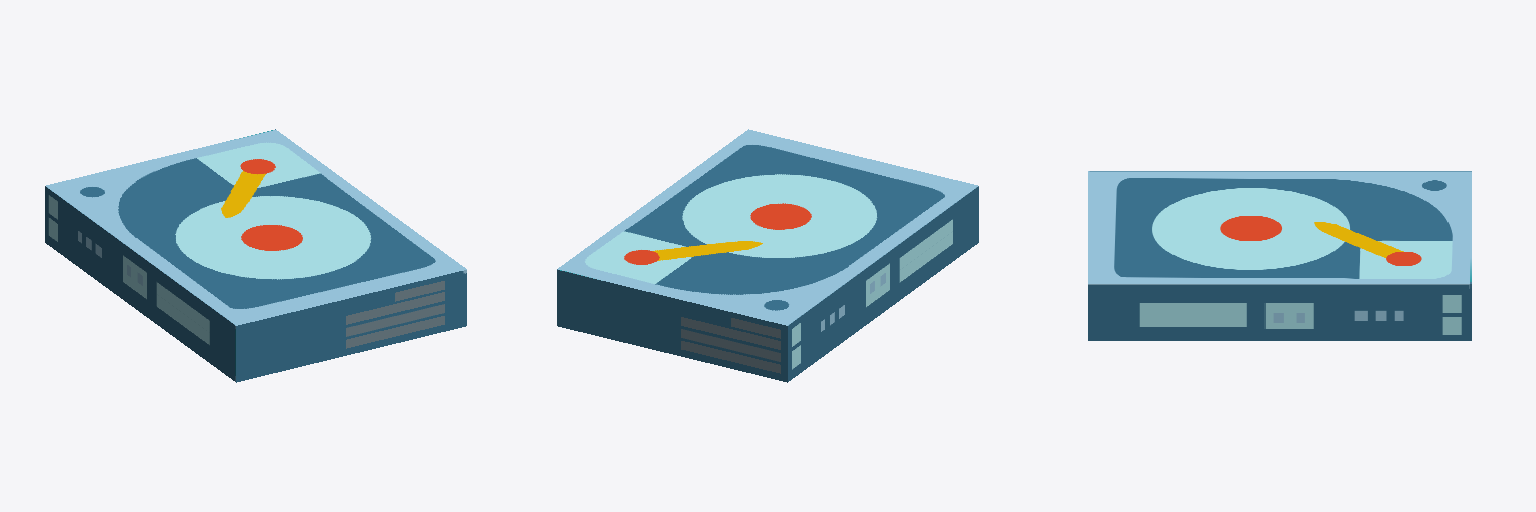
3 renders of one model, left to right at view 1: azimuth 30°, elevation 25°; view 2: azimuth 150°, elevation 25°; view 3: azimuth 270°, elevation 25°, orthographic.
Bounding box in the file's own units: 0.1195 × 0.028 × 0.1714.
1 materials, 1 textured.